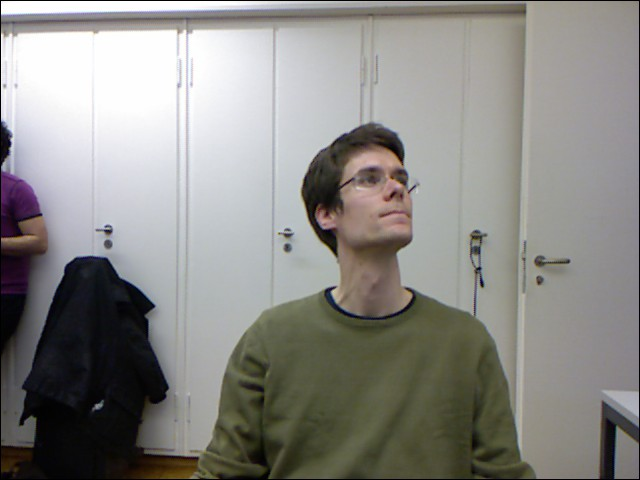deflection: (228, 139, 471, 391)
